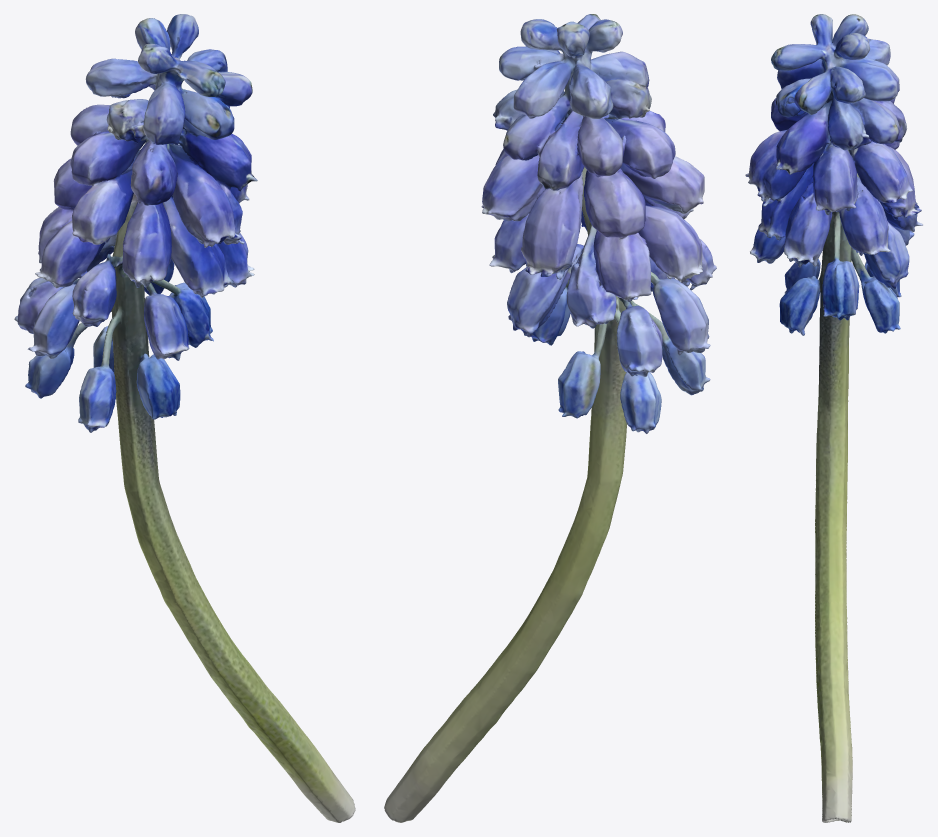
Rendered from blueto.glb.
3 renders of one model, left to right at view 1: azimuth 30°, elevation 25°; view 2: azimuth 150°, elevation 25°; view 3: azimuth 270°, elevation 25°, orthographic. The views are drawn at different scales.
Visible parts, largest first — view 1: tripo_node_05e723ac-1722-4377-a763-8a4d2d57c607; view 2: tripo_node_05e723ac-1722-4377-a763-8a4d2d57c607; view 3: tripo_node_05e723ac-1722-4377-a763-8a4d2d57c607.
Boxes of the visible parts, bbox=[...] form: tripo_node_05e723ac-1722-4377-a763-8a4d2d57c607: bbox=[14, 14, 355, 822]; tripo_node_05e723ac-1722-4377-a763-8a4d2d57c607: bbox=[384, 14, 716, 822]; tripo_node_05e723ac-1722-4377-a763-8a4d2d57c607: bbox=[745, 14, 922, 822].
Bounding box in the file's own units: 0.4034 × 0.9999 × 0.2205.
Materials: 1 (1 with a texture image).
